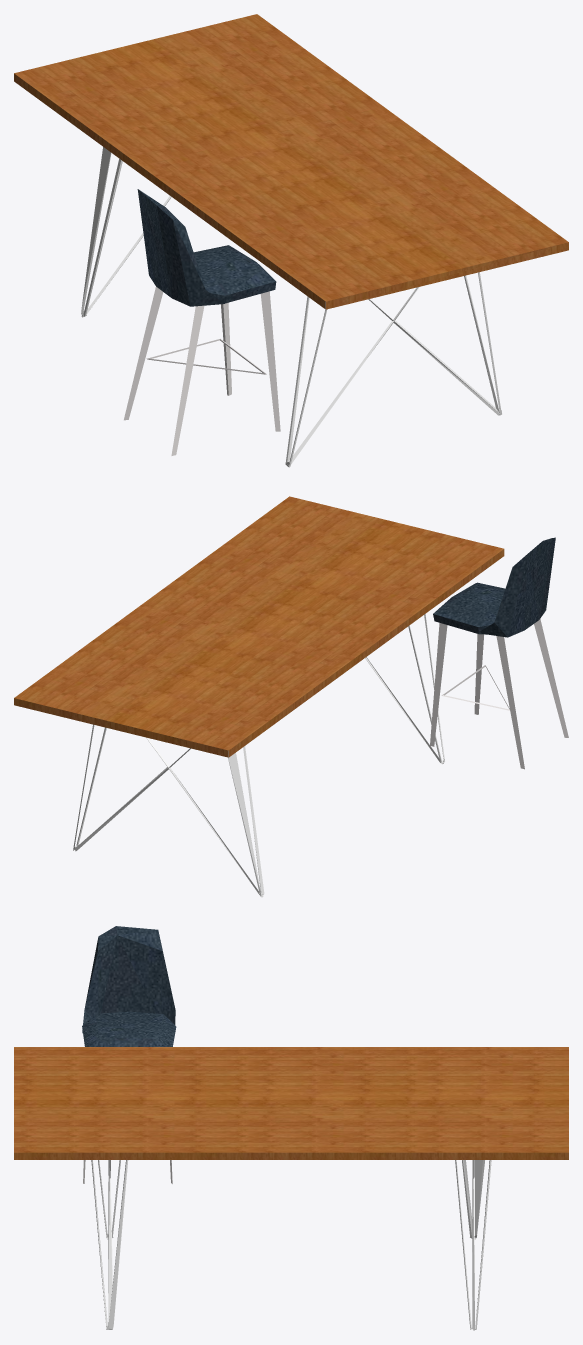
The model's file is table.gltf.
The picture shows the model from 3 angles, top to bottom: view 1: azimuth 30°, elevation 25°; view 2: azimuth 150°, elevation 25°; view 3: azimuth 270°, elevation 25°; orthographic projection. The views are drawn at different scales.
Parts seen in each view (by area): view 1: ID191, ID228, ID21_0, ID215, ID6_0, ID236, ID250, ID244, ID256; view 2: ID191, ID228, ID6_0, ID215, ID21_0, ID256, ID244, ID250; view 3: ID191, ID228, ID215, ID6_0, ID21_0.
Part boxes in pixels (x1,y1,x2,y2): ID191: (14,14,568,309); ID228: (137,189,224,306); ID21_0: (285,272,501,466); ID215: (193,245,276,303); ID6_0: (81,147,171,316); ID236: (260,291,280,431); ID250: (171,305,204,455); ID244: (124,286,163,420); ID256: (221,302,231,395); ID191: (14,496,504,757); ID228: (480,537,555,637); ID6_0: (73,724,264,896); ID215: (433,582,505,634); ID21_0: (365,614,444,763); ID256: (430,623,447,746); ID244: (496,636,524,769); ID250: (534,619,568,737); ID191: (14,1047,568,1159); ID228: (82,926,175,1033); ID215: (82,1011,176,1046); ID6_0: (455,1160,491,1329); ID21_0: (91,1160,128,1329).
Size of the model in its own units: 1.32 by 1.03 by 2.
Materials: 56 (27 with a texture image).
